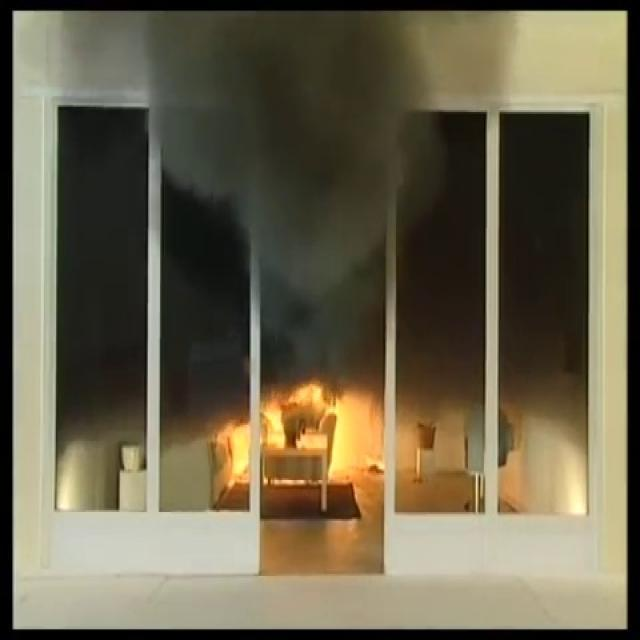Fire: (232, 386, 387, 486)
Smoke: (110, 38, 528, 289)
